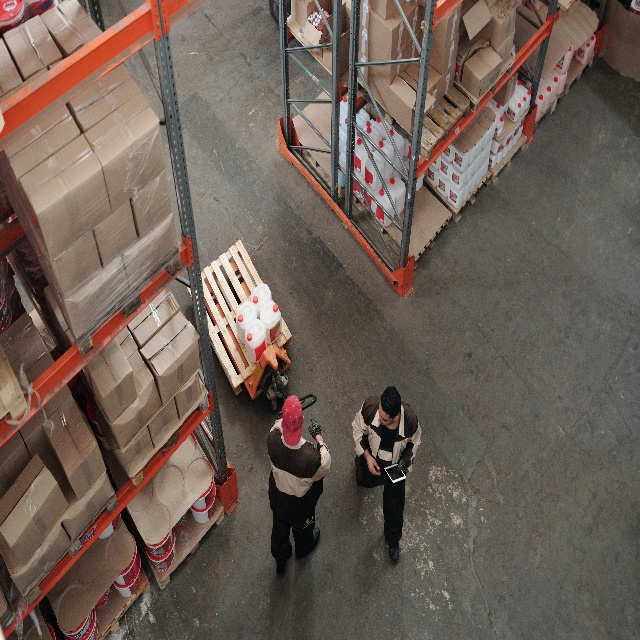Guantes: (308, 416, 323, 439), (398, 457, 405, 475)
Sin_guantes: (367, 454, 381, 476)
